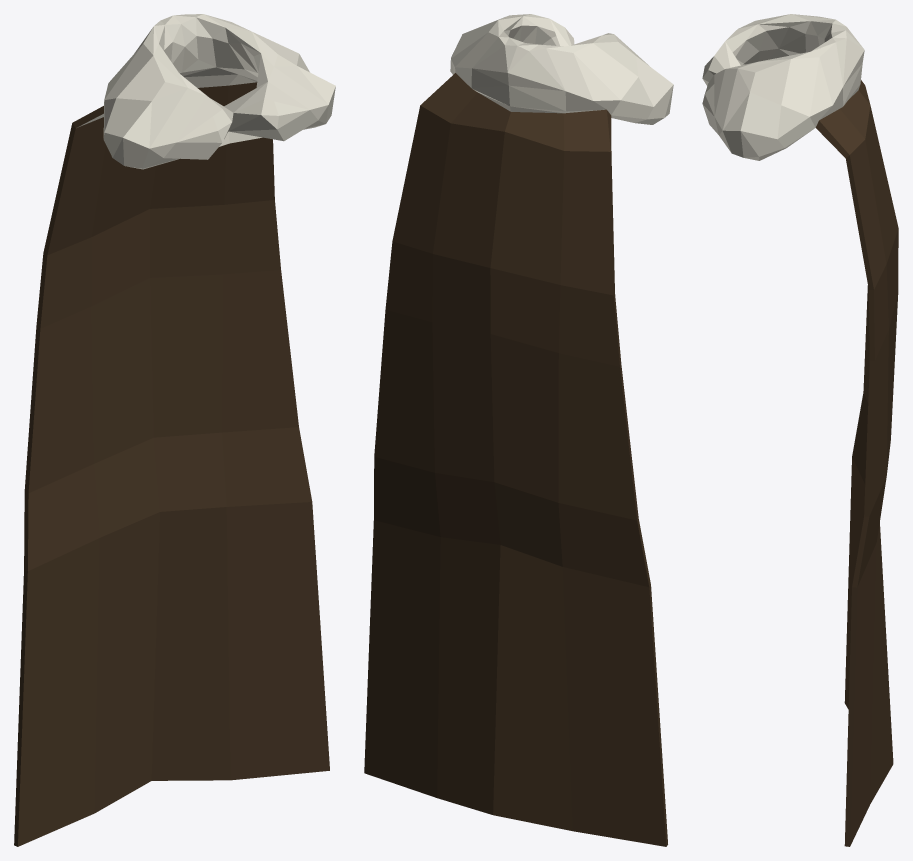
The model's file is VikingBoy_Сloak.fbx.
3 renders of one model, left to right at view 1: azimuth 30°, elevation 25°; view 2: azimuth 150°, elevation 25°; view 3: azimuth 270°, elevation 25°, orthographic. The views are drawn at different scales.
Visible parts, largest first — view 1: VikingBoy_Сloak; view 2: VikingBoy_Сloak; view 3: VikingBoy_Сloak.
Boxes of the visible parts, left/top/right/bottom form: VikingBoy_Сloak: left=14, top=14, right=335, bottom=846; VikingBoy_Сloak: left=364, top=14, right=673, bottom=846; VikingBoy_Сloak: left=702, top=14, right=898, bottom=846.
Bounding box in the file's own units: 38.11 × 91.95 × 21.95.
